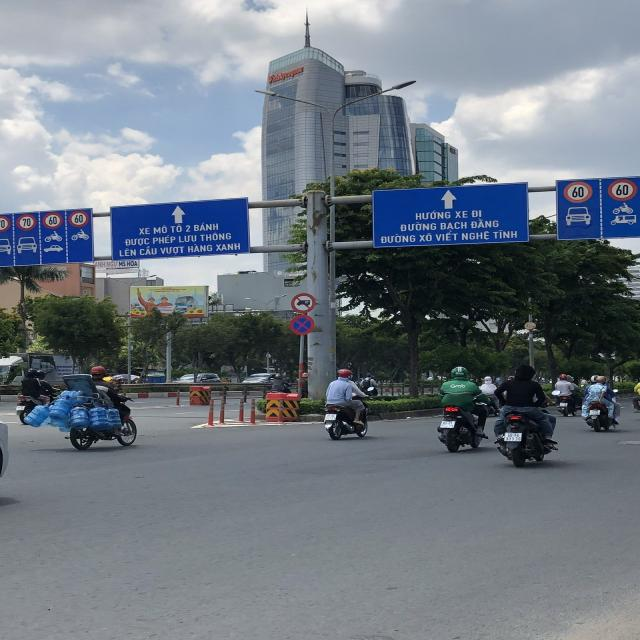Bien bao cam dung xe va do xe: (287, 314, 319, 338)
Bien bao cam xe oto tai: (286, 290, 320, 314)
Bien bao toc do toi da cho phep: (561, 178, 595, 203), (604, 176, 636, 202), (13, 212, 38, 232), (67, 209, 92, 228), (41, 211, 61, 230)
